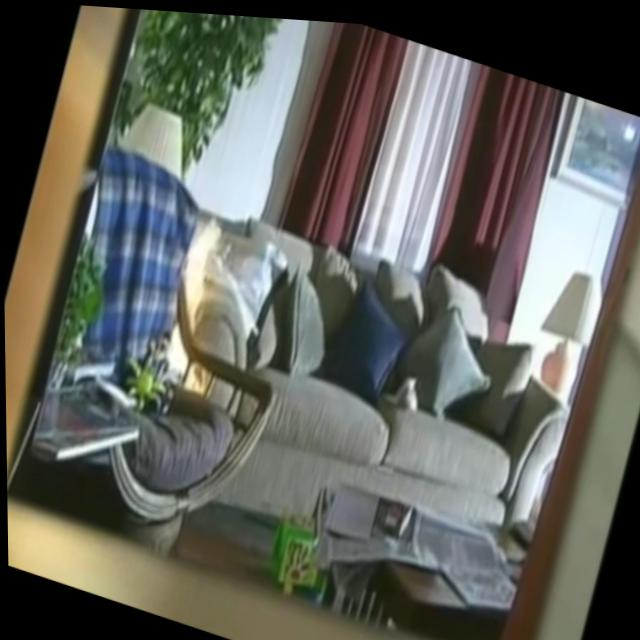fire: (152, 209, 244, 395)
